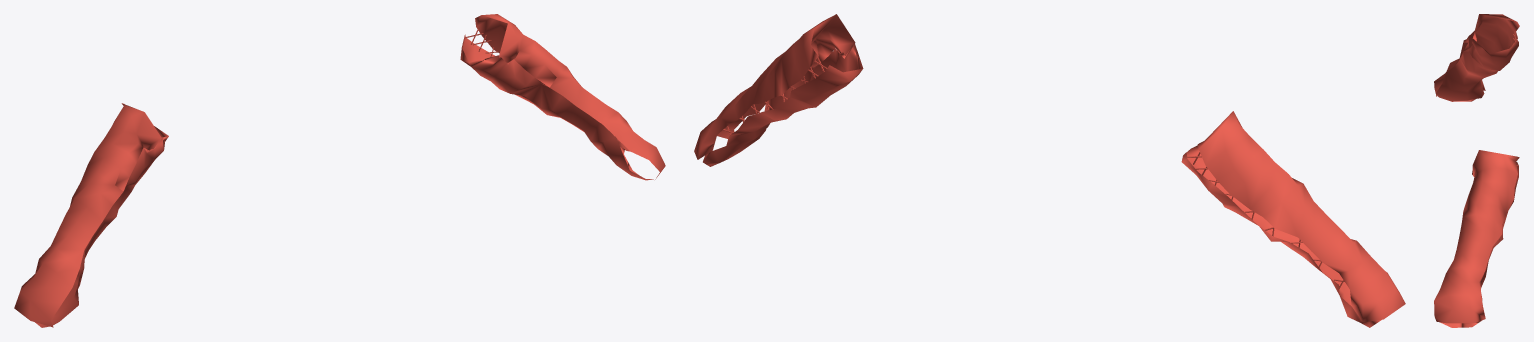
Rendered from gloves_unf.glb.
The picture shows the model from 3 angles, left to right: view 1: azimuth 30°, elevation 25°; view 2: azimuth 150°, elevation 25°; view 3: azimuth 270°, elevation 25°; orthographic projection. The views are drawn at different scales.
Visible parts, largest first — view 1: Vi_Gloves; view 2: Vi_Gloves; view 3: Vi_Gloves.
Part boxes in pixels (x1,y1,x2,y2): Vi_Gloves: (14,14,665,327); Vi_Gloves: (694,14,1405,327); Vi_Gloves: (1434,14,1519,327).
Bounding box in the file's own units: 1.04 × 0.2725 × 0.1595.
